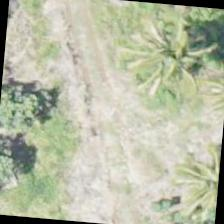Kelapa_Sawit: (130, 16, 223, 115), (158, 150, 221, 223)
